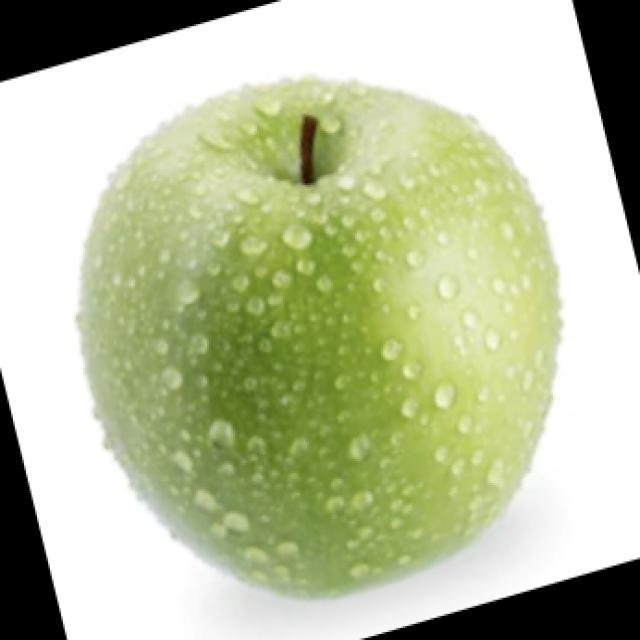Fresh Apple: (91, 83, 536, 592)
